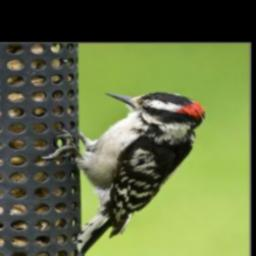Woodpecker: (46, 88, 204, 254)
